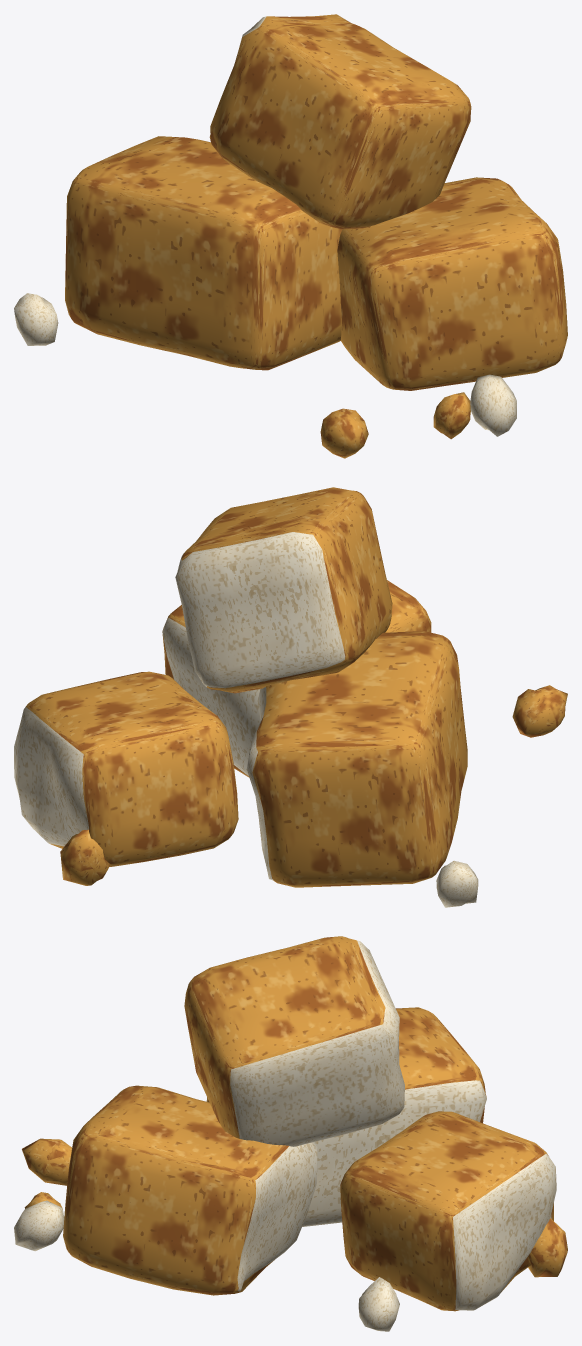
File: BreadCrumbs.glb
3 renders of one model, top to bottom at view 1: azimuth 30°, elevation 25°; view 2: azimuth 150°, elevation 25°; view 3: azimuth 270°, elevation 25°, orthographic. The views are drawn at different scales.
Visible parts, largest first — view 1: BreadCrumbs; view 2: BreadCrumbs; view 3: BreadCrumbs.
Part boxes in pixels (left/top/right/bottom): BreadCrumbs: left=14, top=14, right=567, bottom=458; BreadCrumbs: left=14, top=487, right=567, bottom=907; BreadCrumbs: left=14, top=936, right=567, bottom=1331.
Bounding box in the file's own units: 0.6695 × 0.4214 × 0.7256.
1 material, 1 textured.
